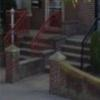stairs: (57, 32, 95, 75)
